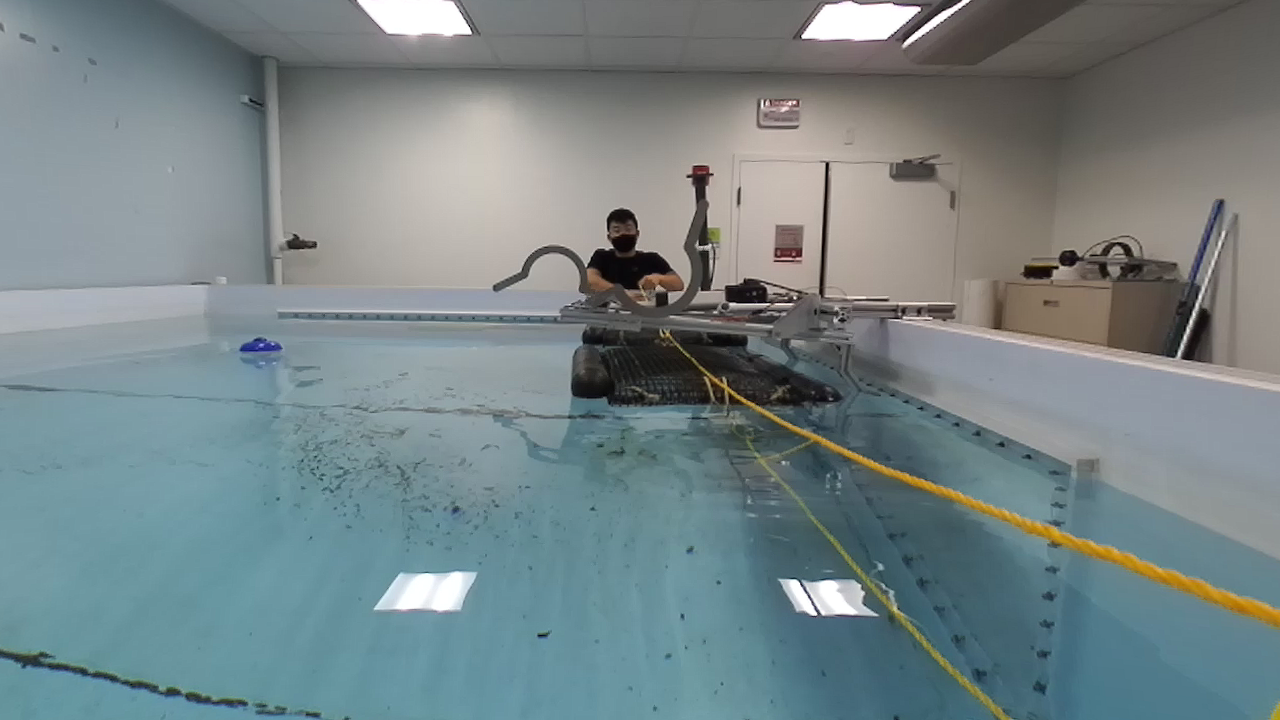bag: (572, 337, 846, 411)
